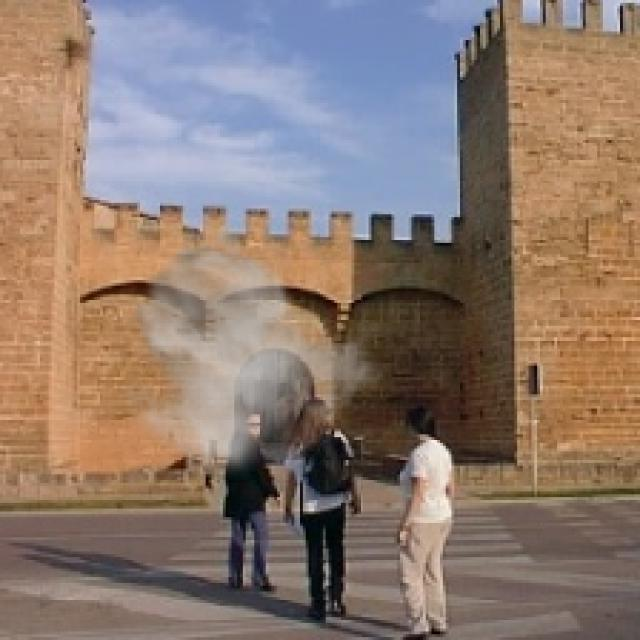smoke: (108, 223, 392, 483)
